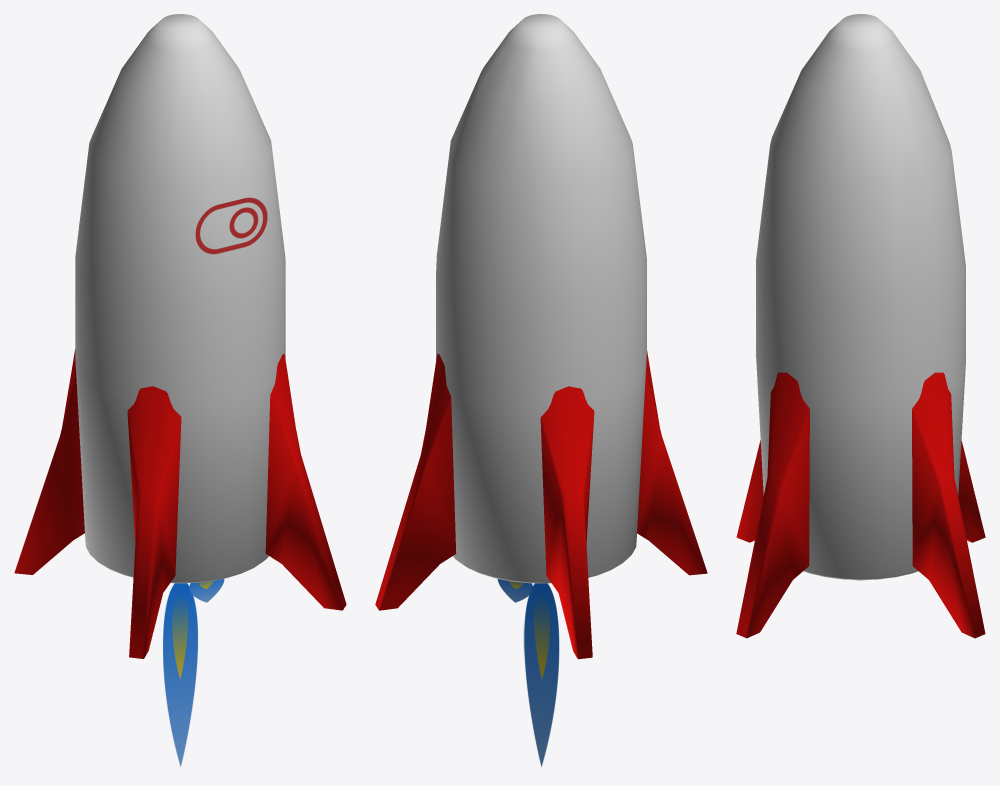
File: rocket.gltf
3 views of the same model, side by side, from view 1: azimuth 30°, elevation 25°; view 2: azimuth 150°, elevation 25°; view 3: azimuth 270°, elevation 25° (orthographic).
Visible parts, largest first — view 1: Cylinder, shipModel, Plane.001, Logo; view 2: Cylinder, shipModel, Plane.001; view 3: Cylinder, shipModel.
Boxes of the visible parts, <box> form: Cylinder: <box>75,14,285,583</box>; shipModel: <box>14,349,346,658</box>; Plane.001: <box>163,583,197,766</box>; Logo: <box>195,197,267,254</box>; Cylinder: <box>436,14,646,583</box>; shipModel: <box>375,351,707,659</box>; Plane.001: <box>523,583,559,766</box>; Cylinder: <box>756,14,965,580</box>; shipModel: <box>736,372,985,638</box>.
Size of the model in its own units: 1.79 by 5.86 by 1.79.
5 materials, 2 textured.
